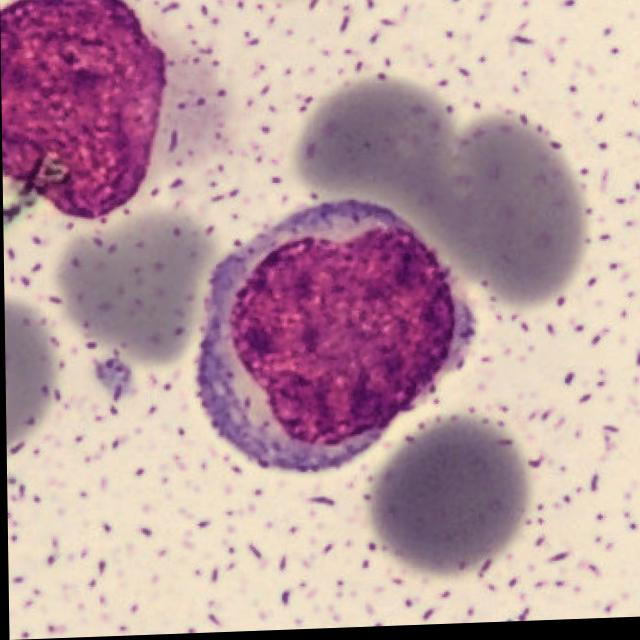Mieloblasto: (193, 202, 461, 476), (0, 0, 168, 222)
